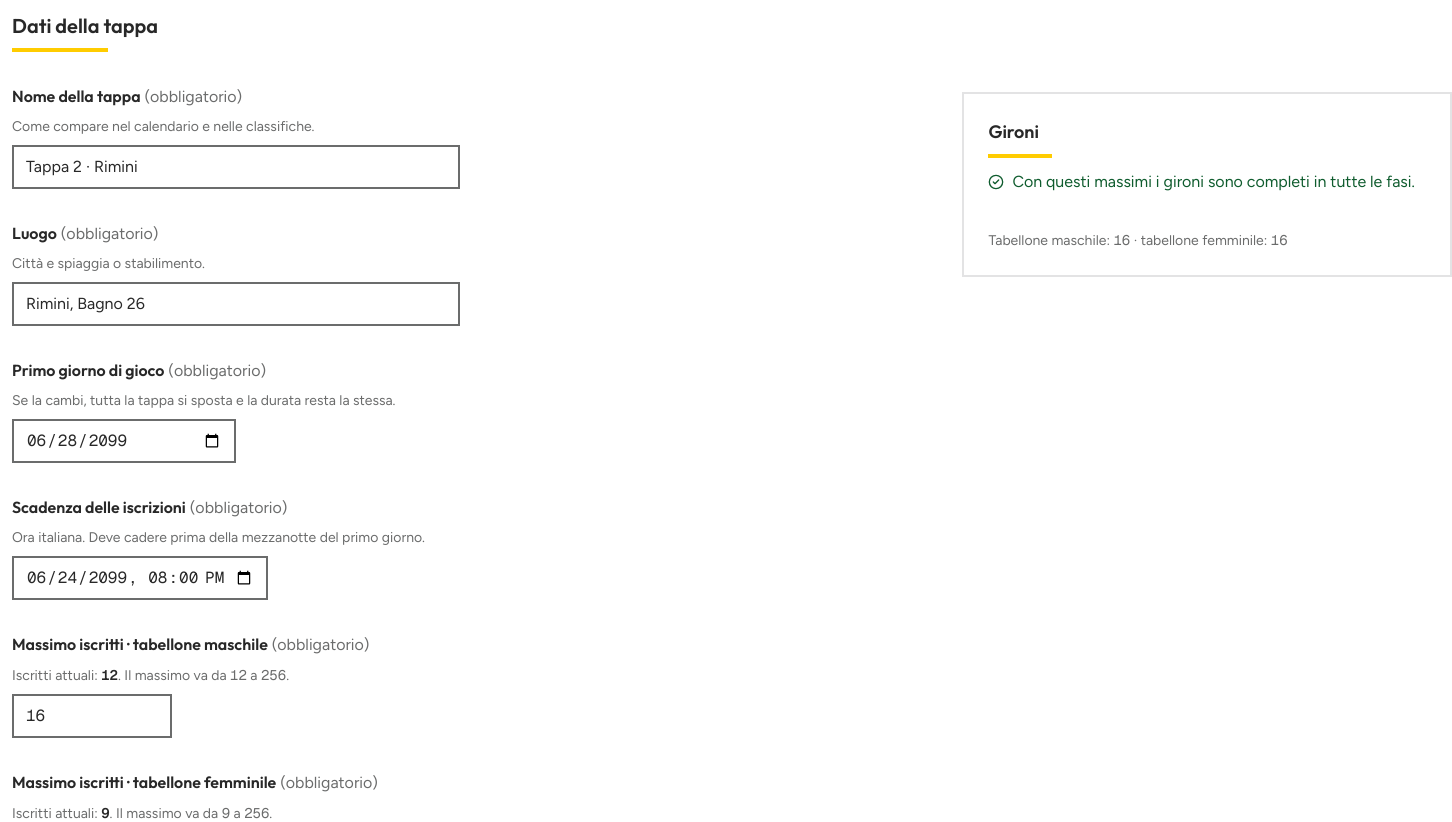
it: TappaModificaForm › propone un massimo con gironi completi e mai sotto gli iscritti
Replace the text in the number field labelled "Massimo iscritti · tabellone maschile (obbligatorio)" with "18": (92, 716) [12, 694, 172, 738]
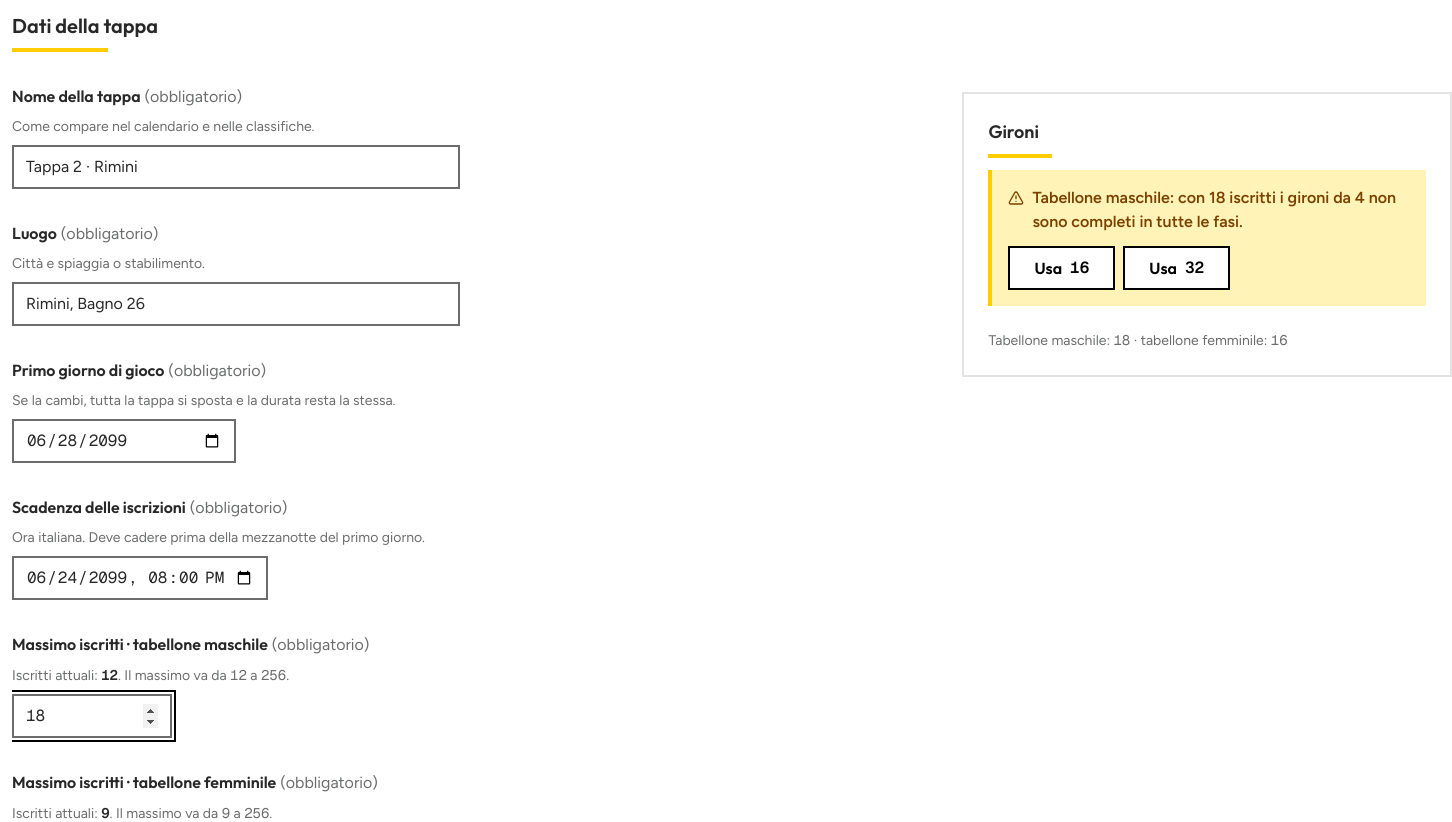
Expected: the text "Tabellone maschile: con 18 iscritti" is shown, [1032, 188, 1396, 231]
Click the button "Usa 16": (1062, 268) [1008, 246, 1115, 290]
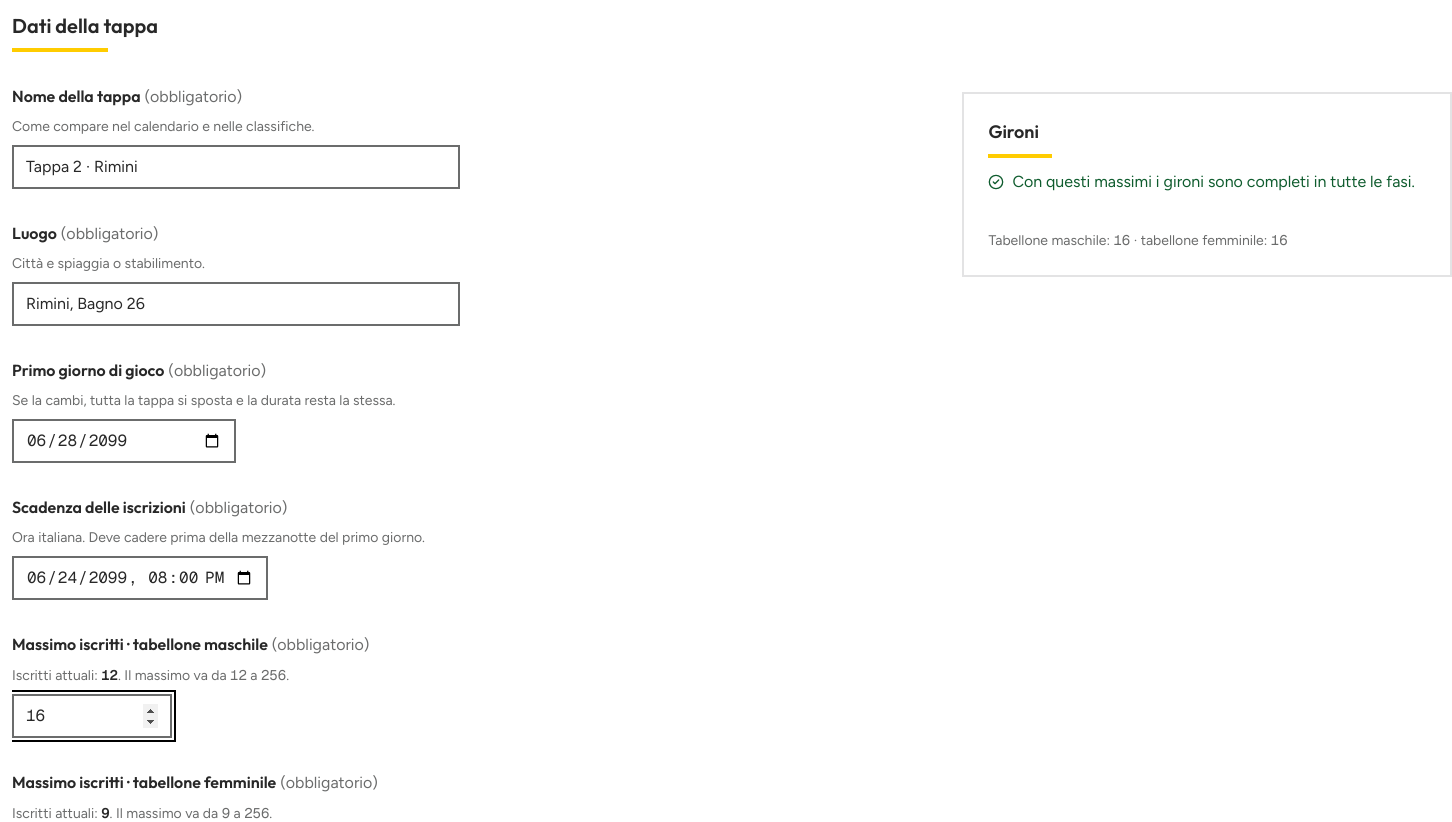
Expected: the number field labelled "Massimo iscritti · tabellone maschile (obbligatorio)" holds "16", [12, 694, 172, 738]
